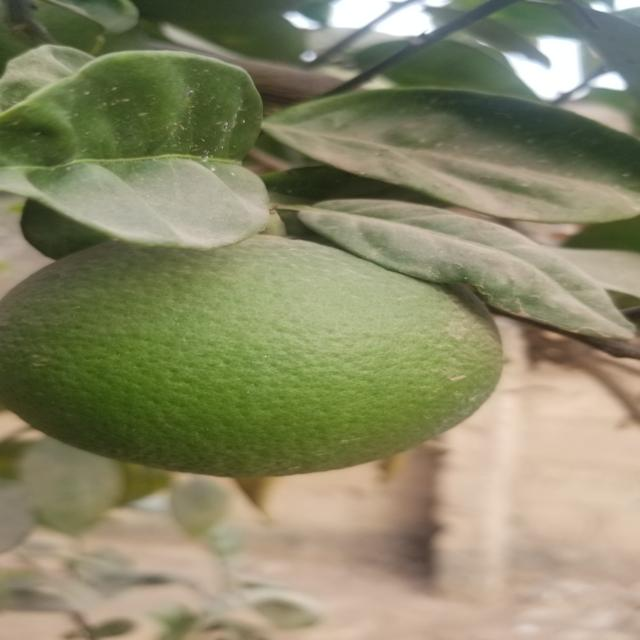Unripe: (0, 238, 493, 478)
